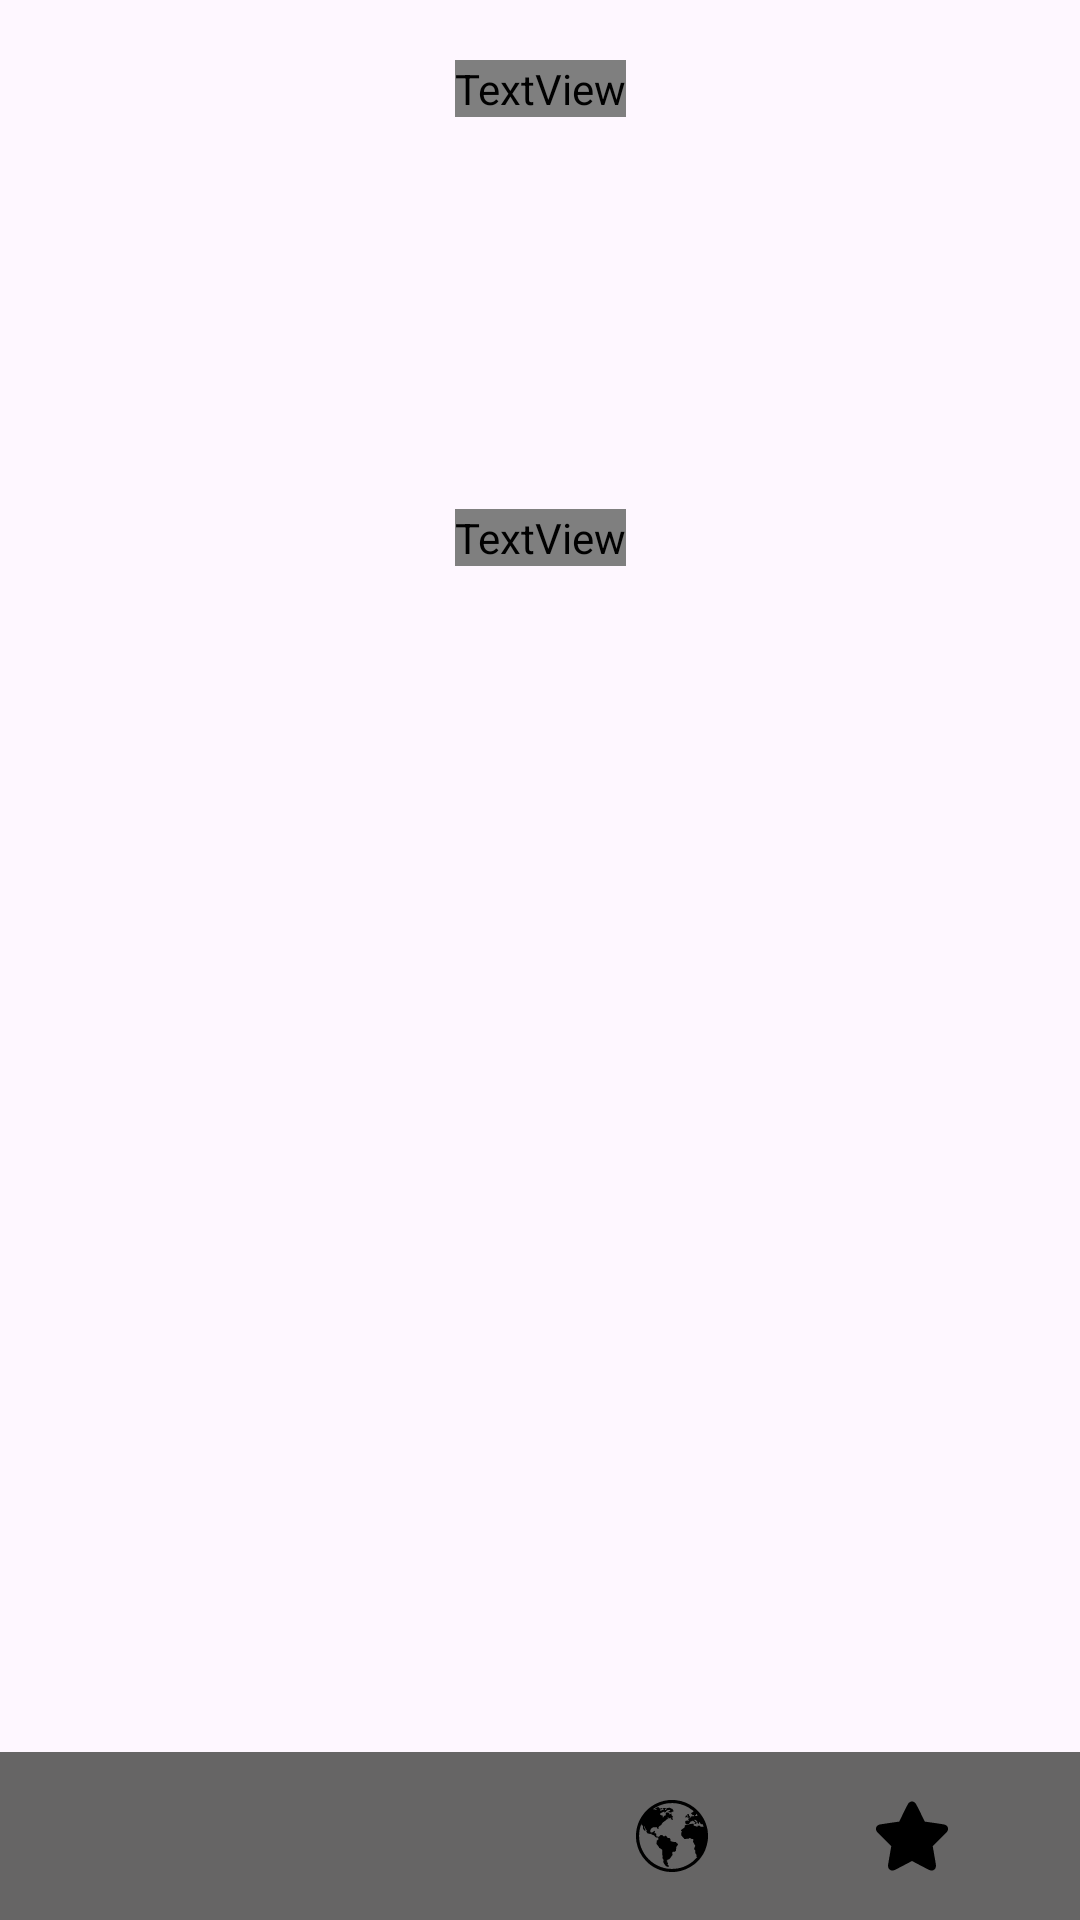

Icon bounding boxes for this 1080 x 1920 phone screenshot, format {"x1": x1, "y1": y1, "x2": x2, "y2": y2}:
fav bottom: {"x1": 876, "y1": 1801, "x2": 948, "y2": 1871}
mundo: {"x1": 636, "y1": 1800, "x2": 708, "y2": 1872}
